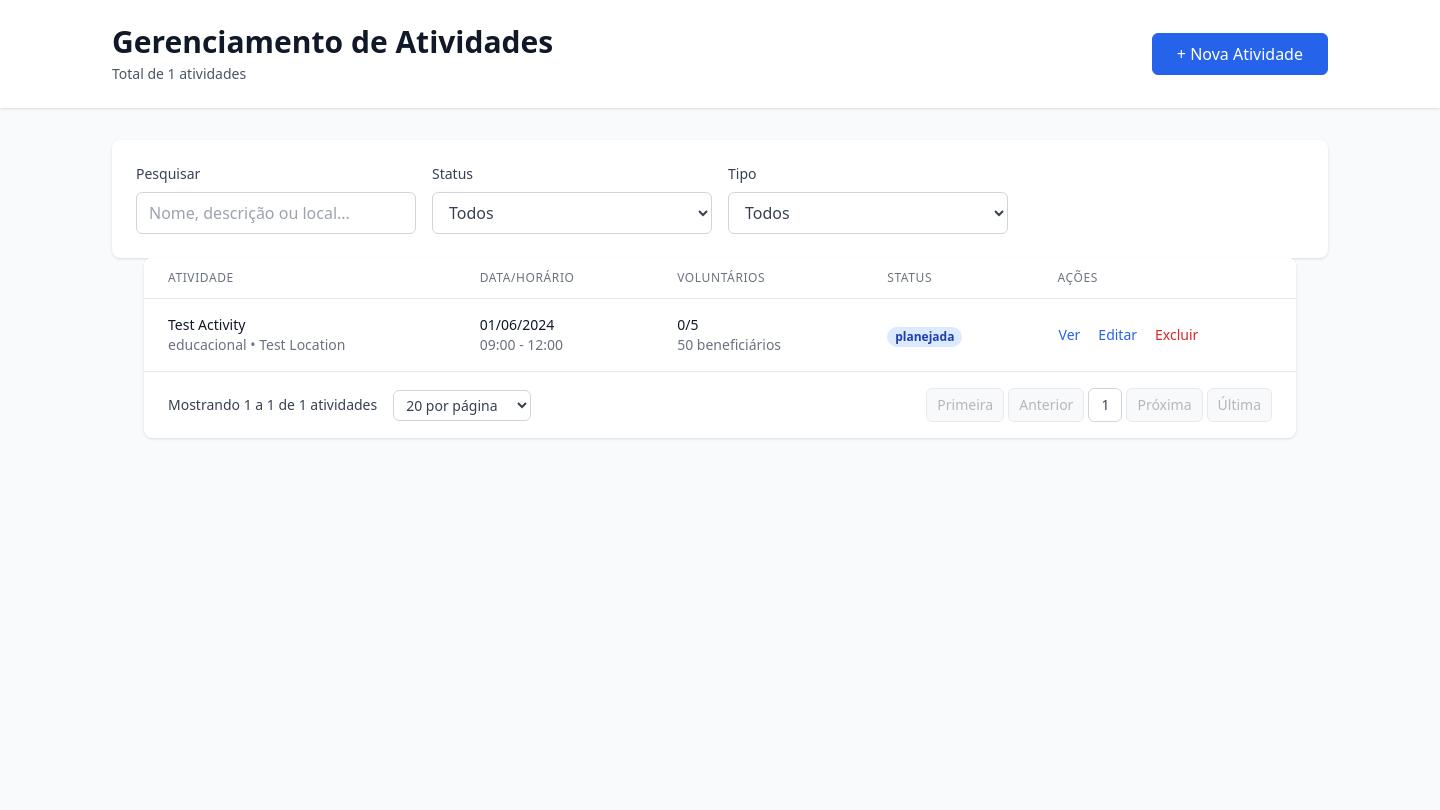
Test: ONGActivitiesPage › View Details › should open details modal when clicking view button
The image size is (1440, 810).
Click the button "Ver".
click(1069, 335)  # box [1058, 324, 1081, 346]
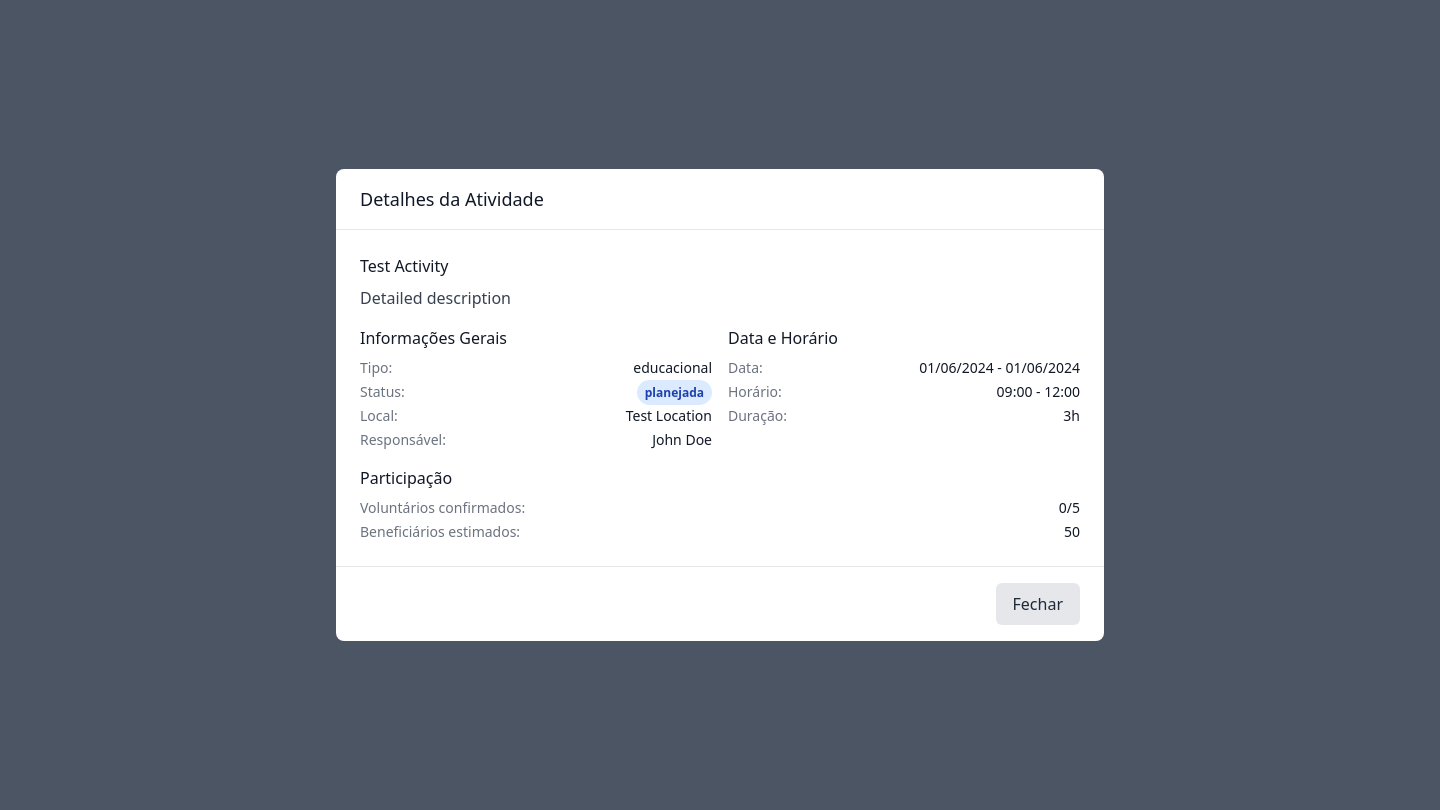
Check: the heading "Detalhes da Atividade" is shown, box [360, 187, 544, 211]
Check: the text "Detailed description" is shown, box [360, 287, 511, 309]
